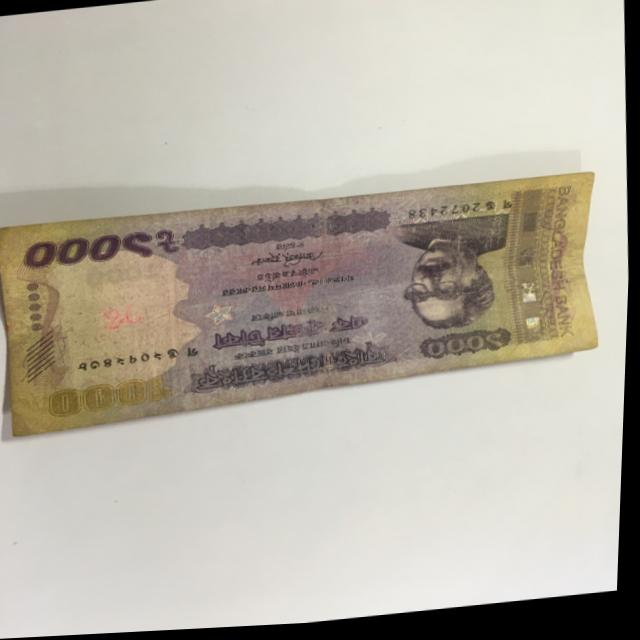Taka: (0, 160, 612, 436)
